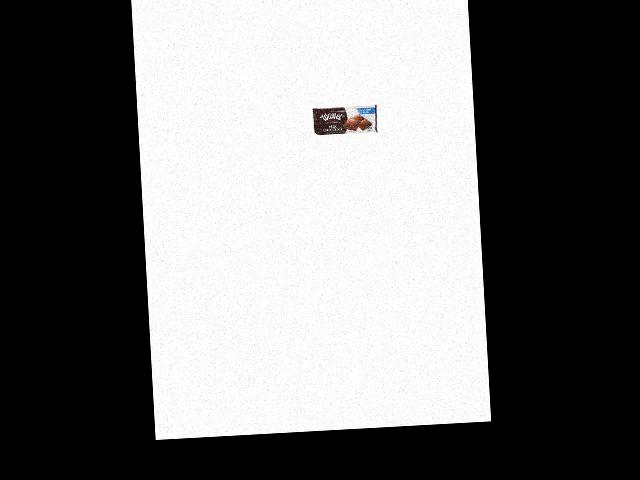chocolate: (313, 103, 378, 137)
